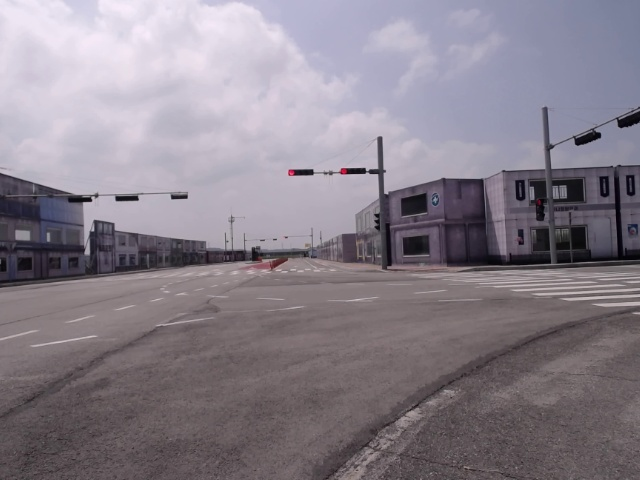red_4: (339, 167, 366, 175), (290, 168, 313, 176)
